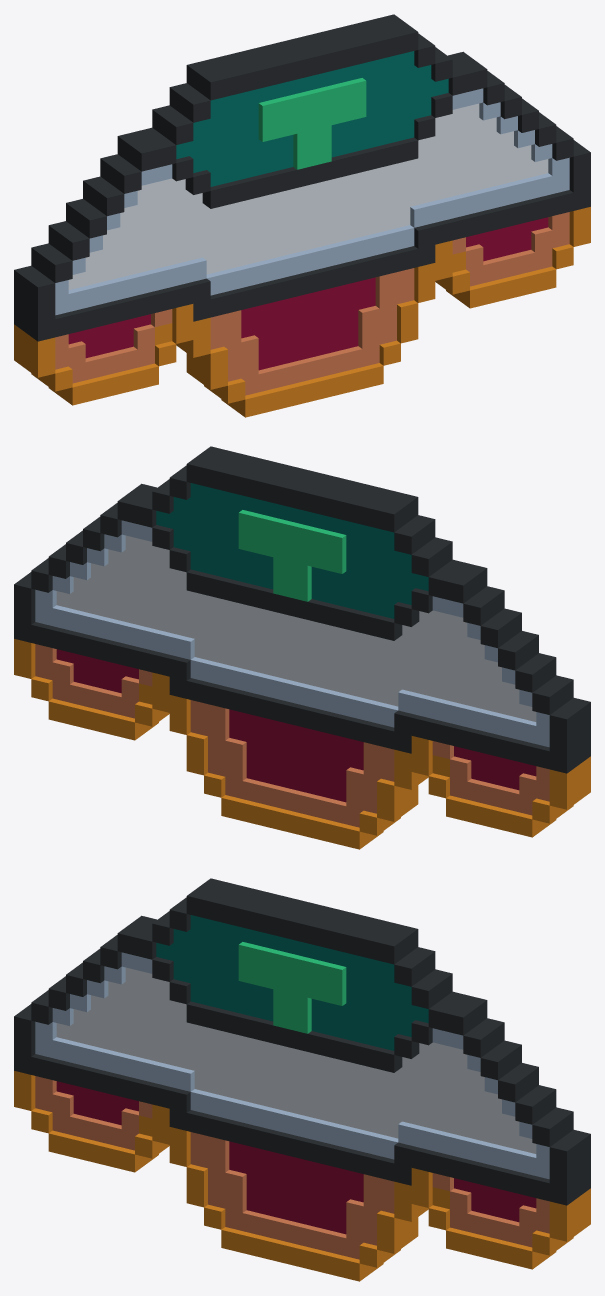
The model's file is shippalien1daenoneon.dae.
3 renders of one model, top to bottom at view 1: azimuth 30°, elevation 25°; view 2: azimuth 150°, elevation 25°; view 3: azimuth 330°, elevation 25°, orthographic.
Visible parts, largest first — view 1: generated; view 2: generated; view 3: generated.
Boxes of the visible parts, bbox=[...] form: generated: bbox=[14, 14, 590, 417]; generated: bbox=[14, 446, 590, 849]; generated: bbox=[14, 878, 590, 1281].
Bounding box in the file's own units: 32 × 19 × 2.4.
